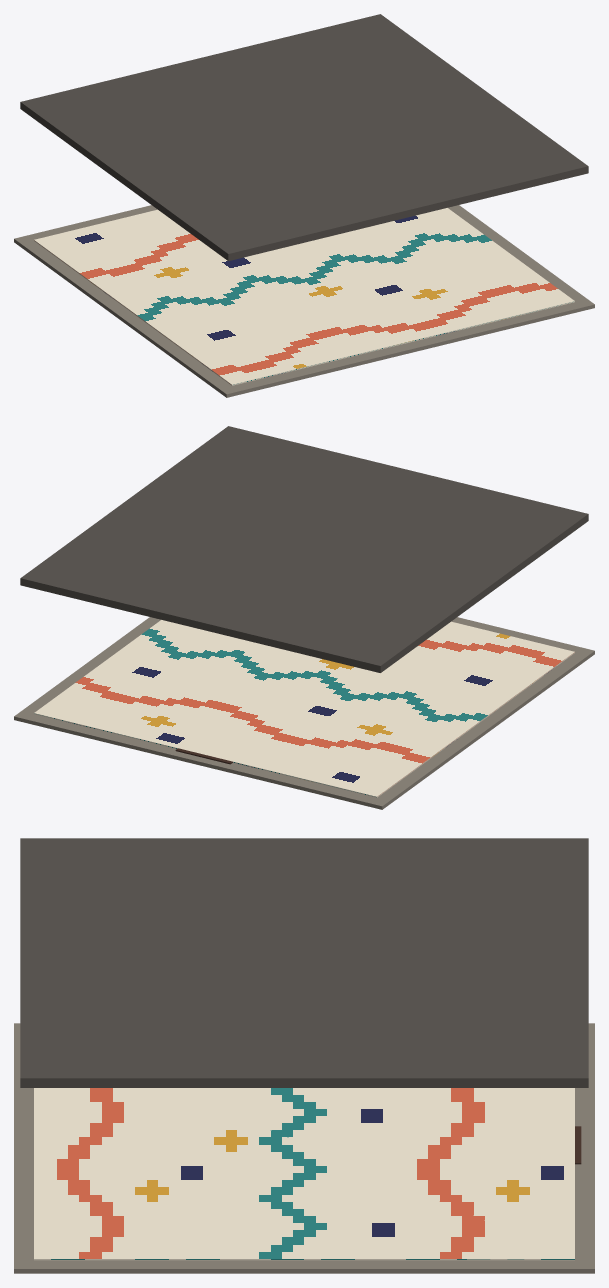
Rendered from structure.glb.
3 views of the same model, one above another, from view 1: azimuth 30°, elevation 25°; view 2: azimuth 150°, elevation 25°; view 3: azimuth 270°, elevation 25° (orthographic). The views are drawn at different scales.
Parts seen in each view (by area): view 1: Box5, Box2, Box1; view 2: Box5, Box2, Box1; view 3: Box5, Box2, Box1.
Part boxes in pixels (x1,y1,x2,y2): Box5: (20, 14, 588, 260); Box2: (34, 208, 574, 385); Box1: (14, 205, 594, 397); Box5: (20, 426, 588, 672); Box2: (34, 620, 574, 797); Box1: (14, 617, 594, 809); Box5: (20, 838, 588, 1087); Box2: (34, 1088, 574, 1260); Box1: (14, 1023, 594, 1273).
Size of the model in its own units: 10.74 by 3.93 by 10.74.
Materials: 6 (1 with a texture image).
